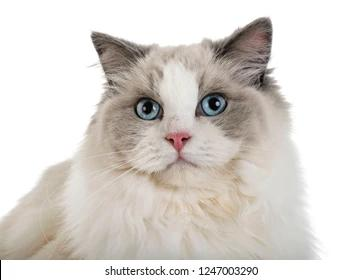ragdoll: (88, 13, 276, 209)
